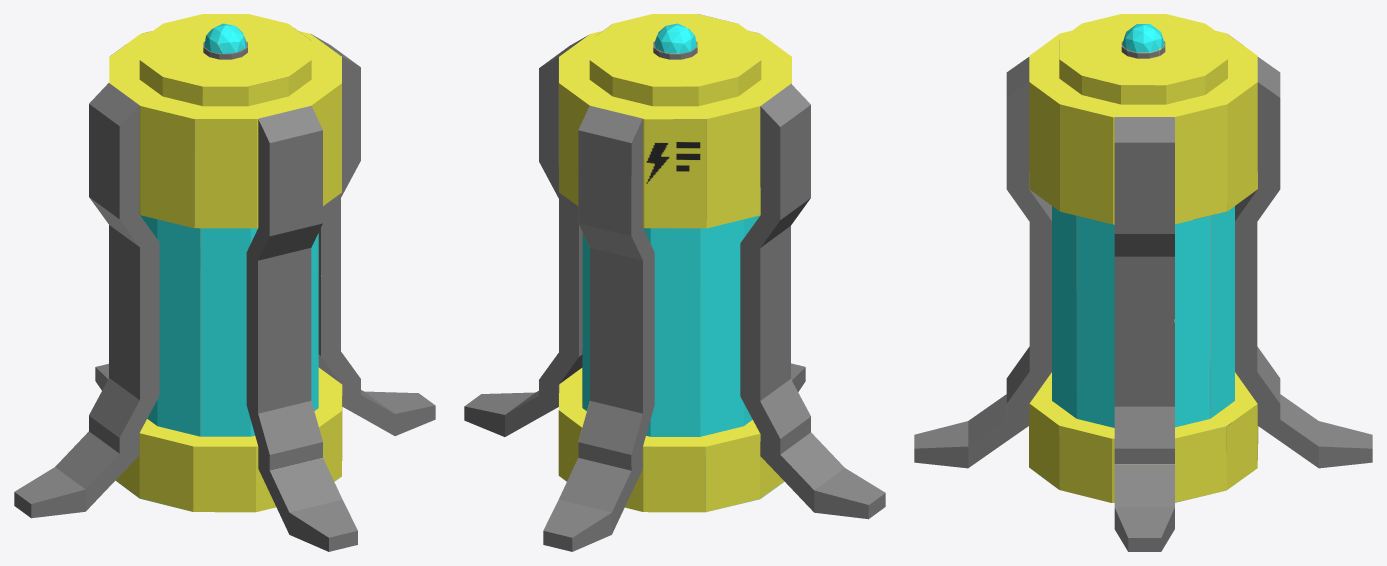
Rendered from Generator.fbx.
The picture shows the model from 3 angles, left to right: view 1: azimuth 30°, elevation 25°; view 2: azimuth 150°, elevation 25°; view 3: azimuth 270°, elevation 25°; orthographic projection.
Visible parts, largest first — view 1: Generator; view 2: Generator; view 3: Generator.
Part boxes in pixels (<box>): Generator: <box>14,14,435,551</box>; Generator: <box>464,14,885,551</box>; Generator: <box>914,14,1372,551</box>.
Bounding box in the file's own units: 387 × 401 × 387.
